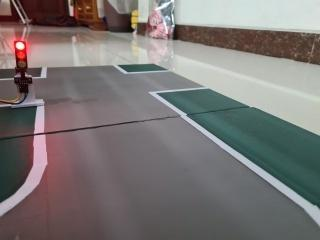red: (7, 33, 34, 78)
